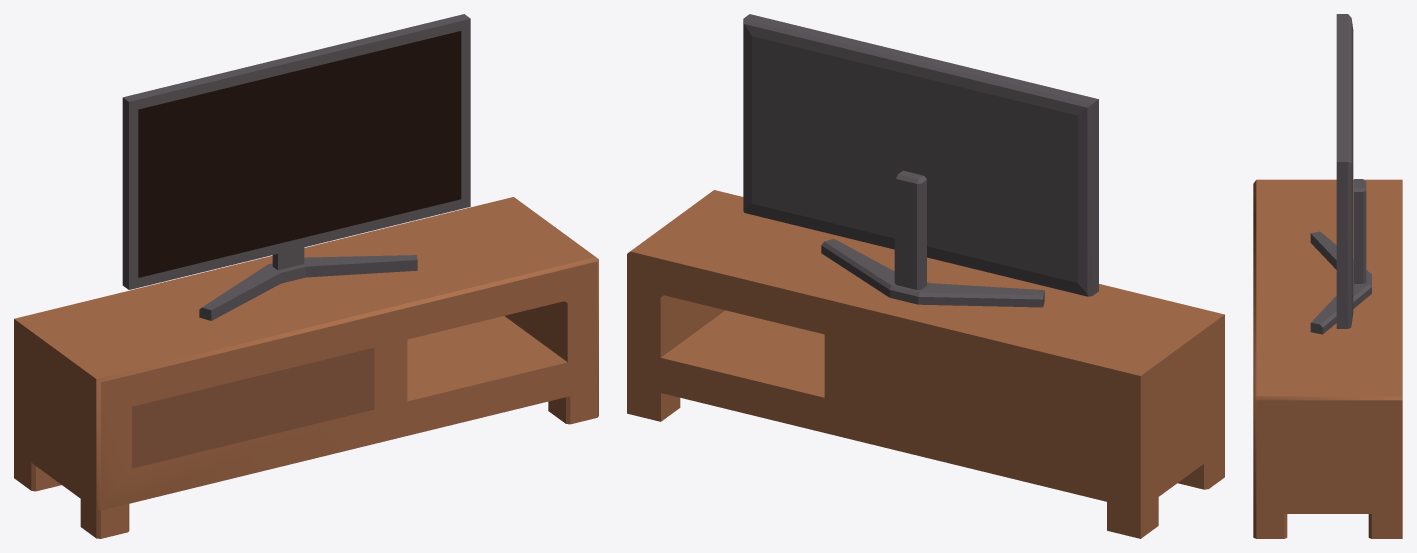
The model's file is Table TV.fbx.
The picture shows the model from 3 angles, left to right: view 1: azimuth 30°, elevation 25°; view 2: azimuth 150°, elevation 25°; view 3: azimuth 270°, elevation 25°; orthographic projection. The views are drawn at different scales.
Parts seen in each view (by area): view 1: Cube.076, Cube.072; view 2: Cube.076, Cube.072; view 3: Cube.076, Cube.072.
Boxes of the visible parts, x1,y1,x2,y2 form: Cube.076: (14,197,598,538); Cube.072: (122,14,470,320); Cube.076: (627,190,1224,538); Cube.072: (743,14,1098,307); Cube.076: (1253,179,1402,538); Cube.072: (1310,14,1371,334).
Bounding box in the file's own units: 87.3 × 63.77 × 25.27.
